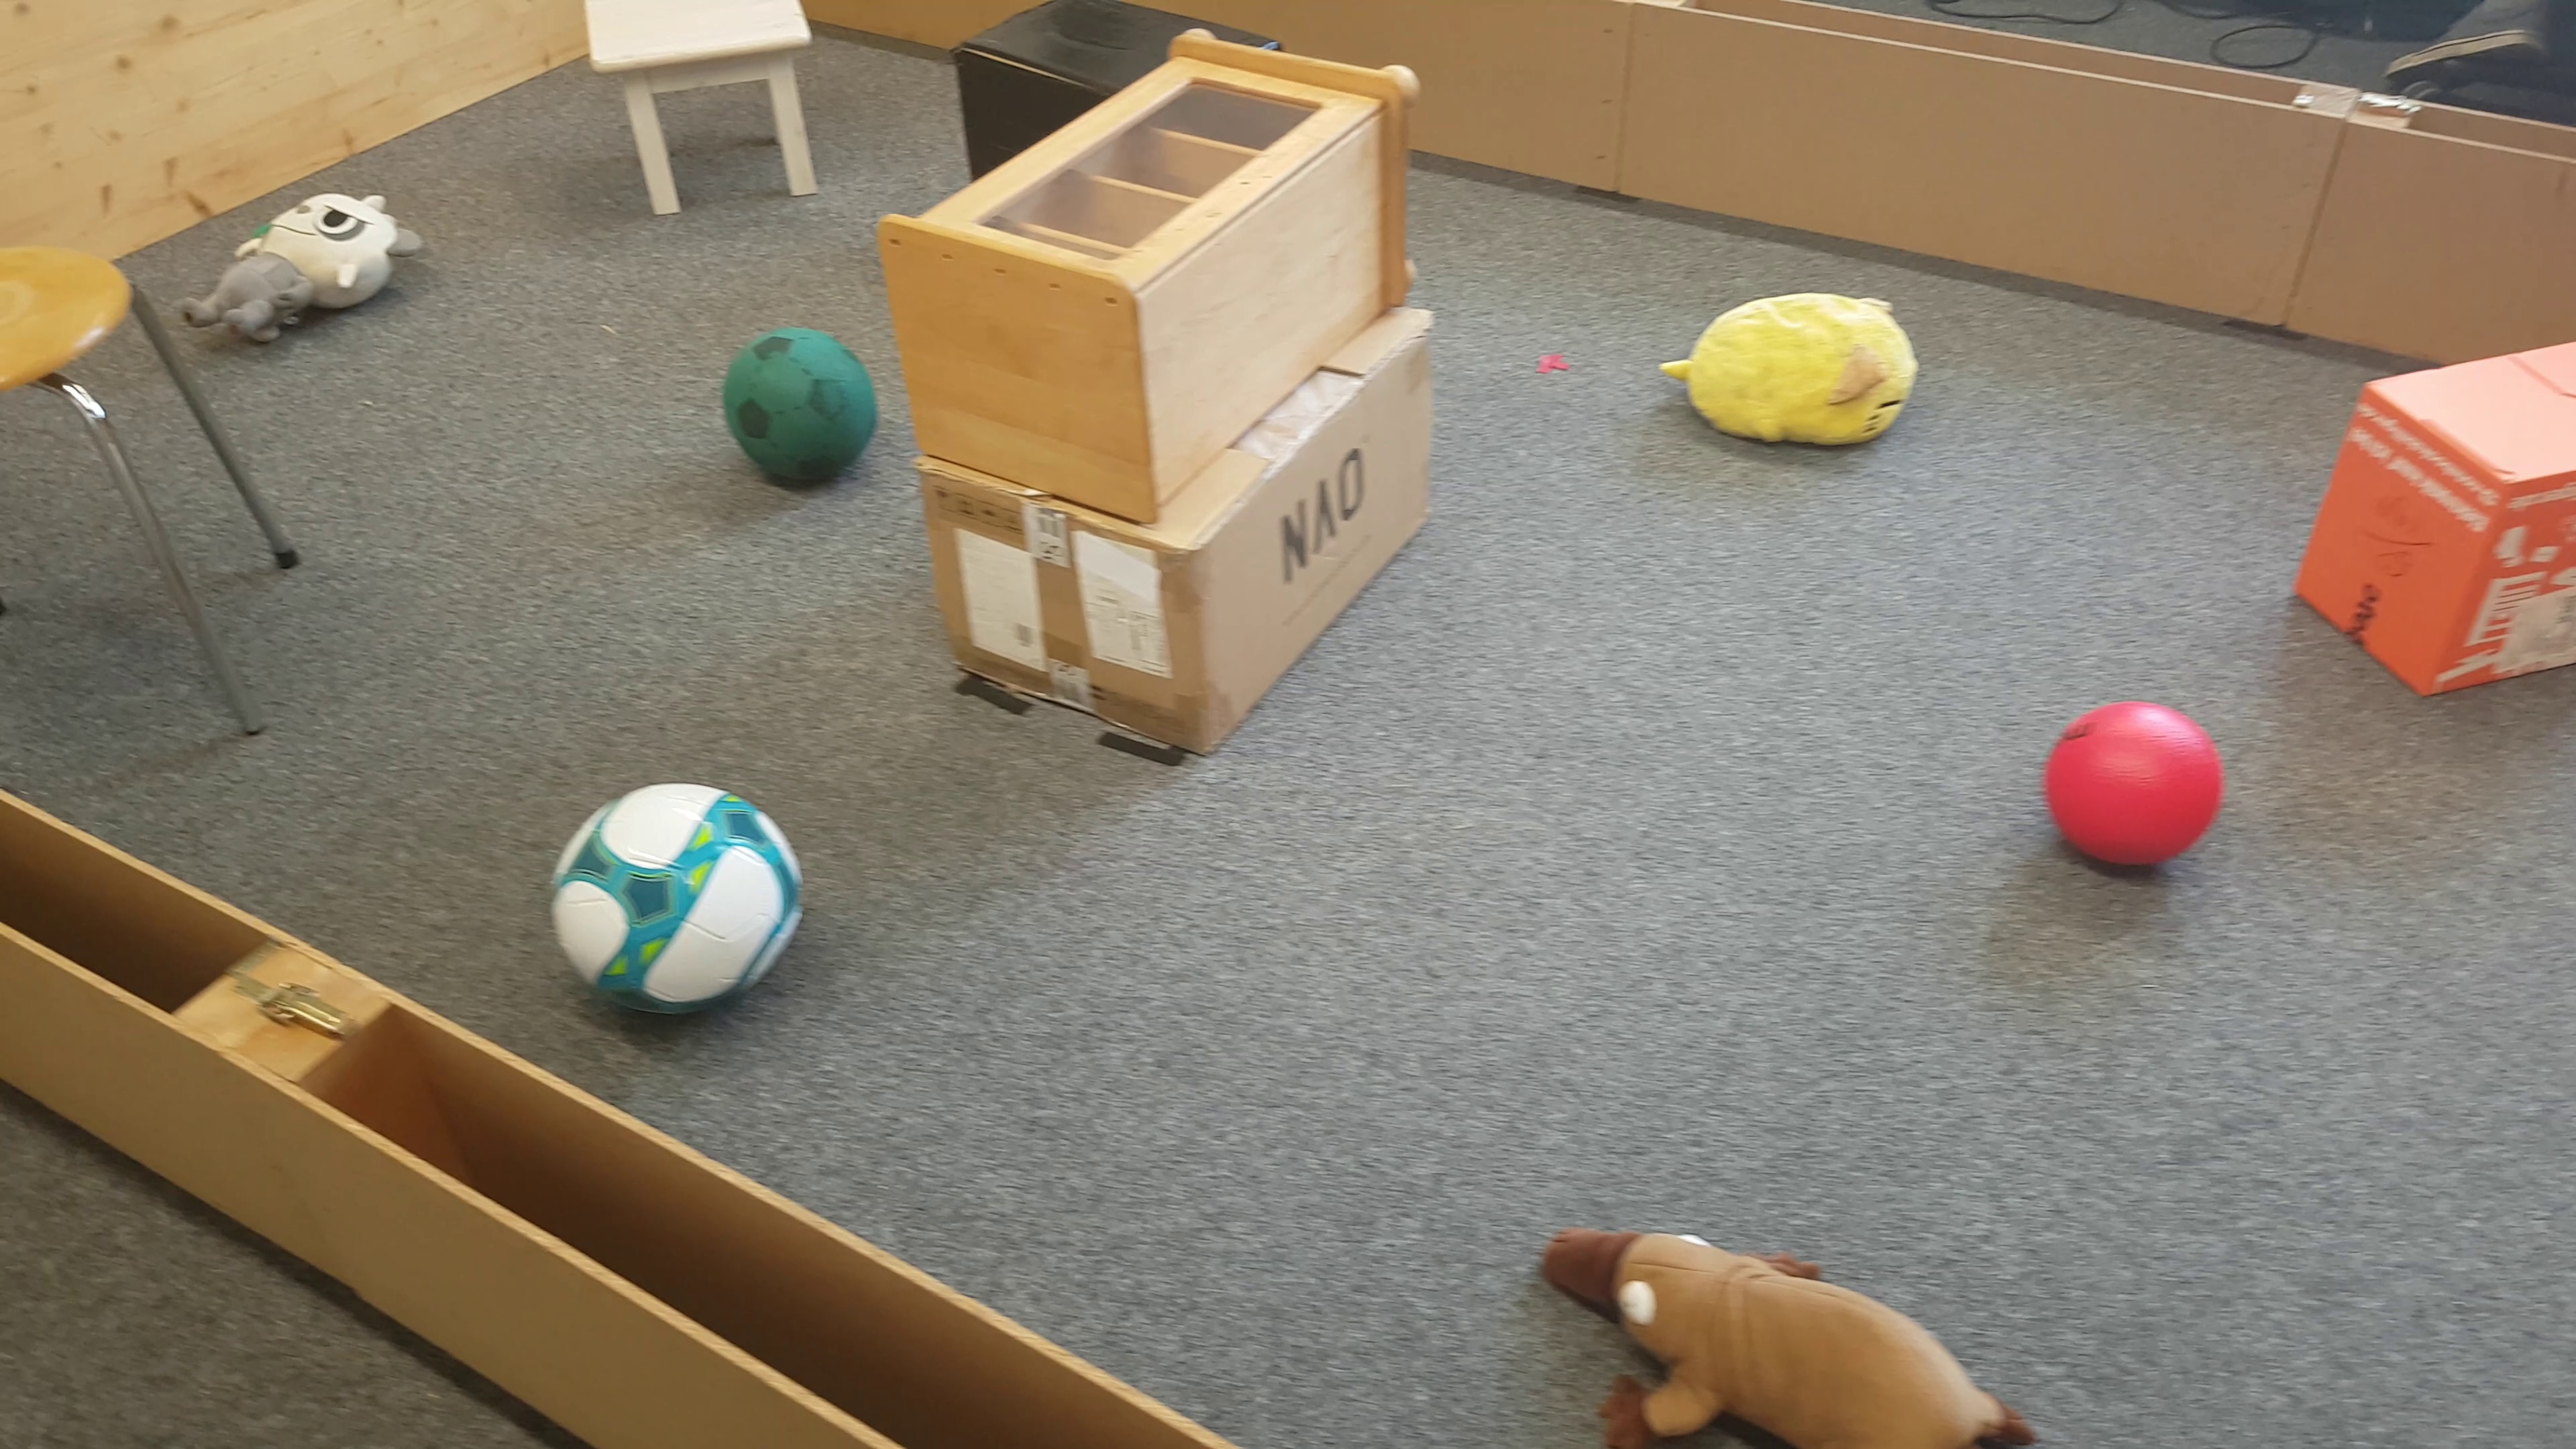grasp: (1541, 1219, 2028, 1449), (1660, 290, 1918, 446), (191, 184, 421, 347)
kick: (547, 782, 809, 1021), (2045, 697, 2224, 870), (722, 327, 876, 488)
push: (2298, 331, 2576, 702), (962, 11, 1131, 92)
